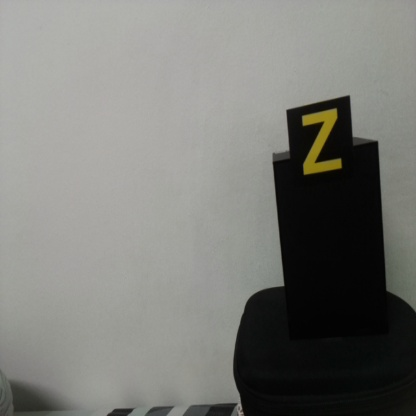id_15: (288, 105, 354, 185)
